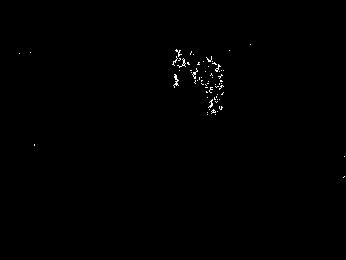person: (201, 57, 226, 116)
